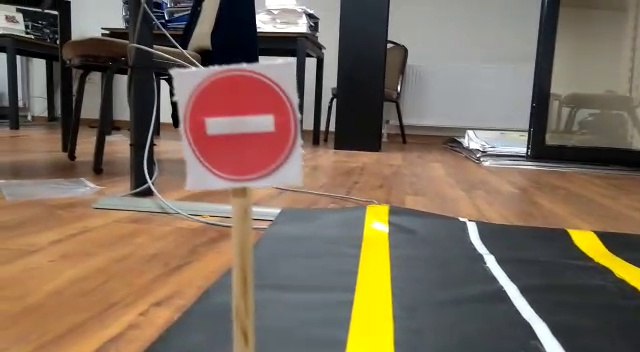girisi_olmayan_yol: (185, 70, 300, 181)
